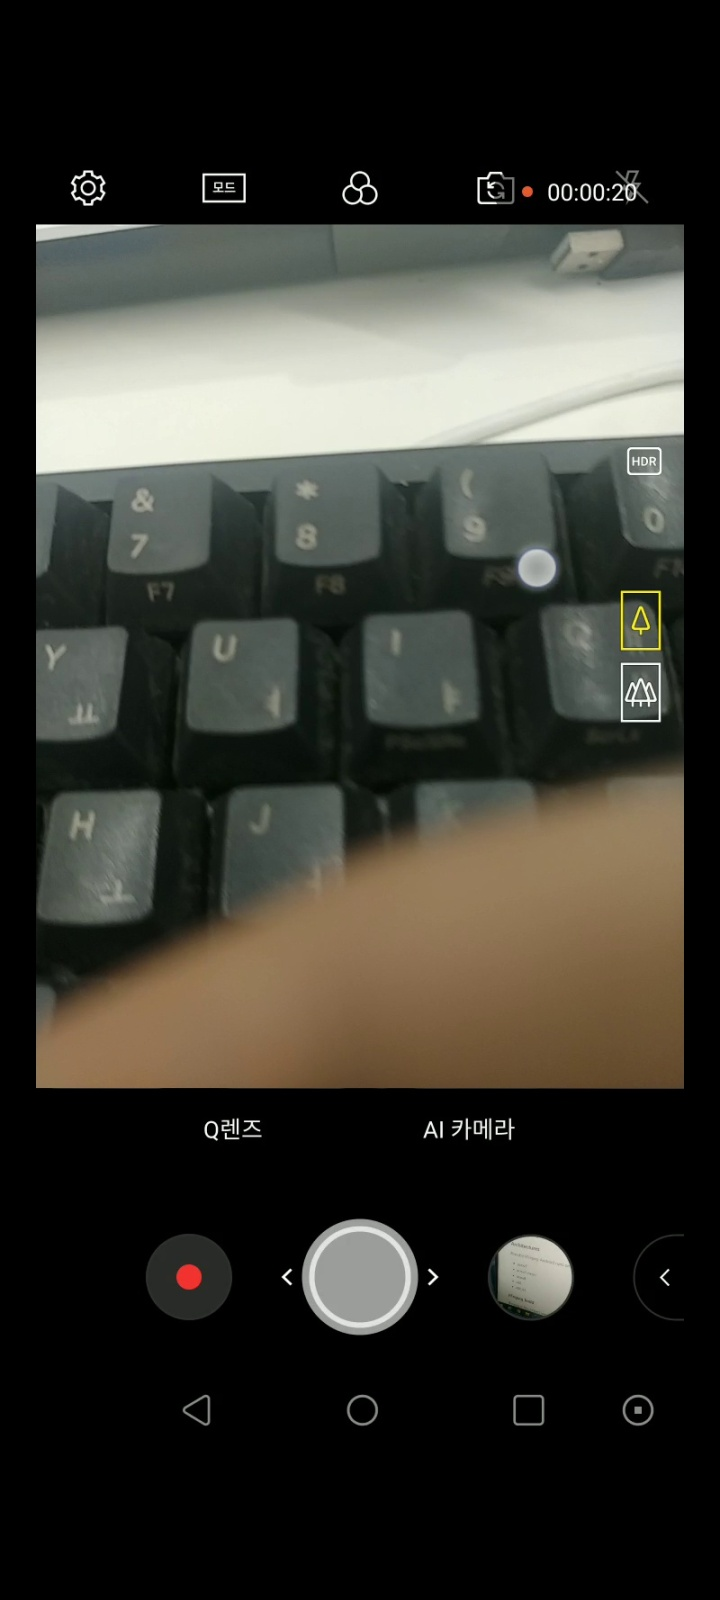Cursor: (514, 547, 559, 592)
